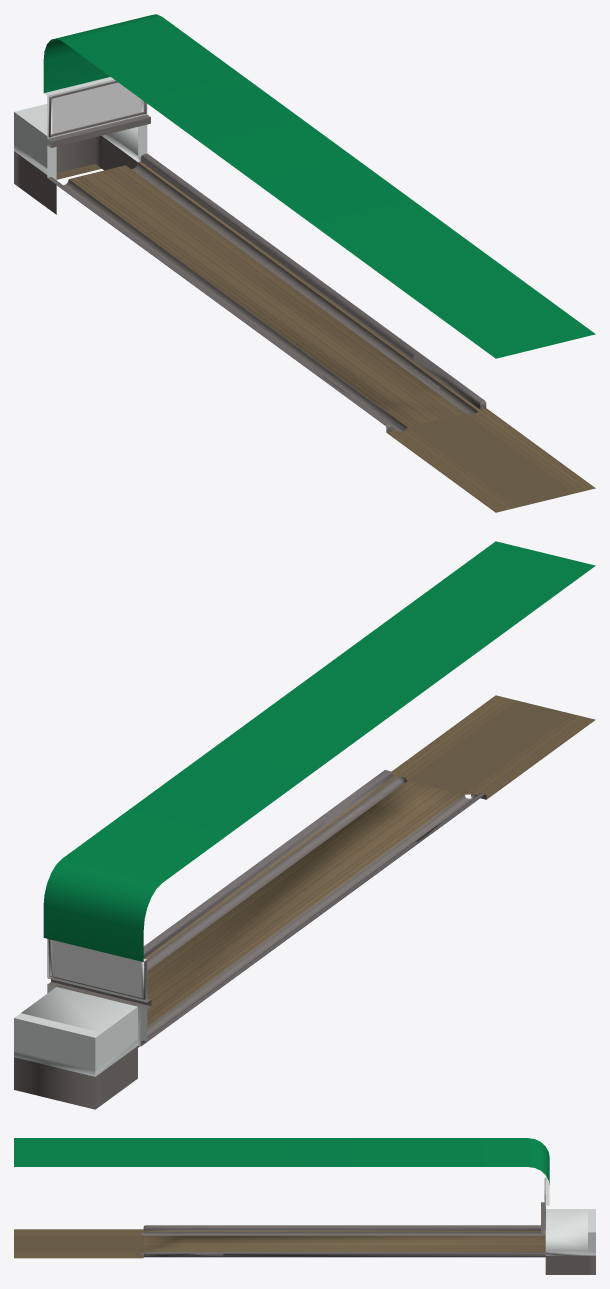
Rendered from BowlingAlleyBalling.fbx.
3 views of the same model, one above another, from view 1: azimuth 30°, elevation 25°; view 2: azimuth 150°, elevation 25°; view 3: azimuth 270°, elevation 25° (orthographic). The views are drawn at different scales.
Parts seen in each view (by area): view 1: Plane; view 2: Plane; view 3: Plane.
Boxes of the visible parts, x1,y1,x2,y2 form: Plane: (14,14,595,512); Plane: (14,541,595,1109); Plane: (14,1138,595,1274).
Size of the model in its own units: 3.2 by 27.17 by 5.7.
6 materials, 1 textured.
